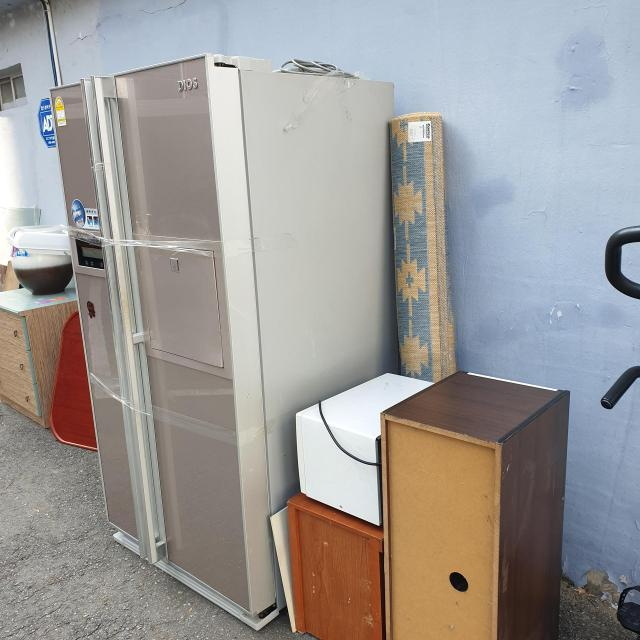refrigerator: (44, 52, 401, 638)
